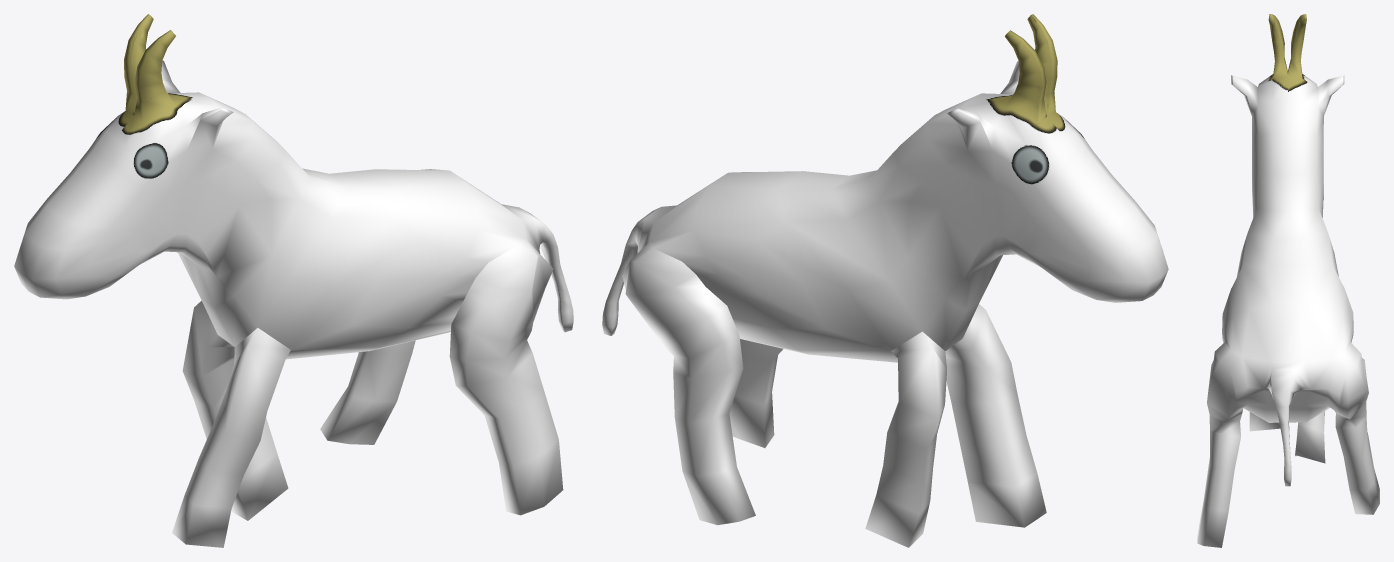
Rendered from goatAnim_000012.obj.
The picture shows the model from 3 angles, left to right: view 1: azimuth 30°, elevation 25°; view 2: azimuth 150°, elevation 25°; view 3: azimuth 270°, elevation 25°; orthographic projection. The views are drawn at different scales.
Visible parts, largest first — view 1: Cube; view 2: Cube; view 3: Cube.
Boxes of the visible parts, left/top/right/bottom form: Cube: left=14, top=14, right=573, bottom=547; Cube: left=602, top=14, right=1168, bottom=547; Cube: left=1197, top=14, right=1379, bottom=547.
Bounding box in the file's own units: 1.31 × 1.2 × 0.4842.
